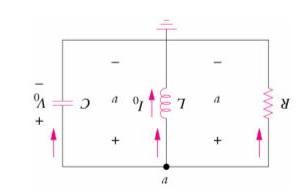inductor: (155, 82, 177, 125)
